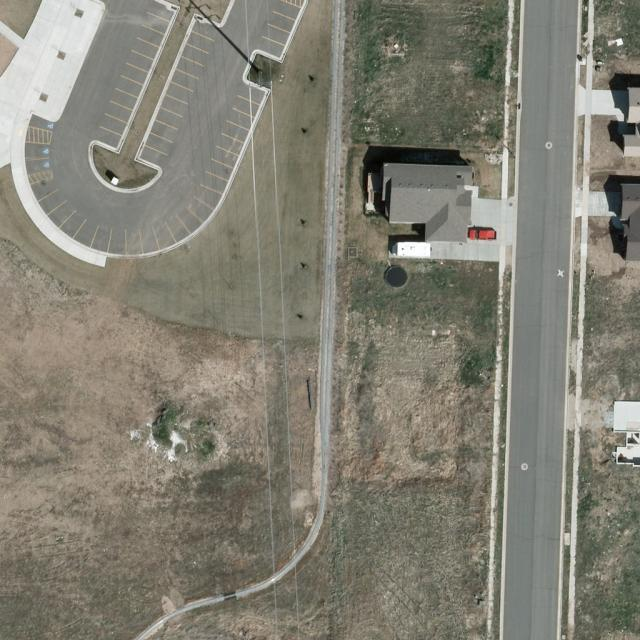vehicle: (468, 229, 498, 240)
